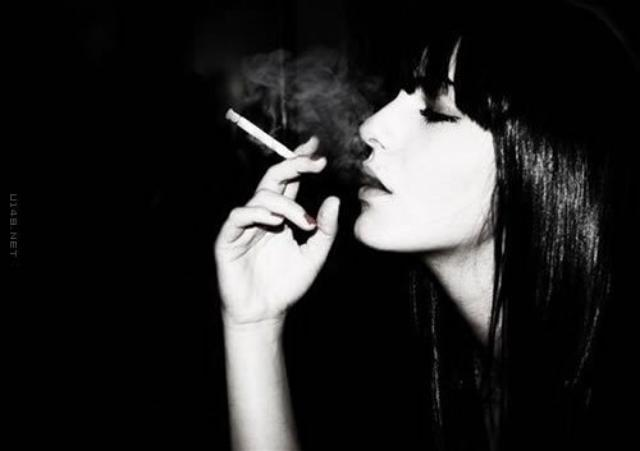Cigarette: (220, 107, 296, 159)
